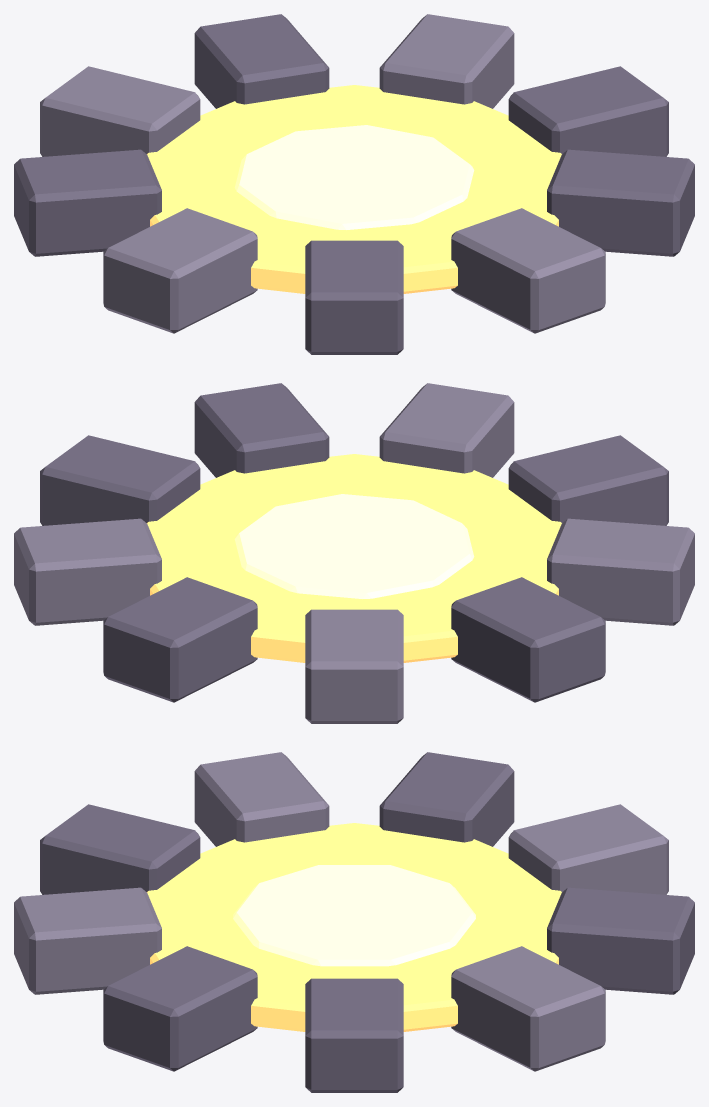
File: ember_magma_pool.glb
3 views of the same model, one above another, from view 1: azimuth 30°, elevation 25°; view 2: azimuth 150°, elevation 25°; view 3: azimuth 270°, elevation 25° (orthographic).
Visible parts, largest first — view 1: ember_magma_pool_Body, ember_magma_pool_Molten.001; view 2: ember_magma_pool_Body, ember_magma_pool_Molten.001; view 3: ember_magma_pool_Body, ember_magma_pool_Molten.001.
Part boxes in pixels (box(x1,y1,x2,y2)): ember_magma_pool_Body: box(14, 14, 694, 354); ember_magma_pool_Molten.001: box(147, 85, 561, 293); ember_magma_pool_Body: box(14, 383, 694, 723); ember_magma_pool_Molten.001: box(147, 454, 561, 662); ember_magma_pool_Body: box(14, 752, 694, 1092); ember_magma_pool_Molten.001: box(147, 823, 561, 1031).
Bounding box in the file's own units: 5.45 × 0.56 × 5.54.
